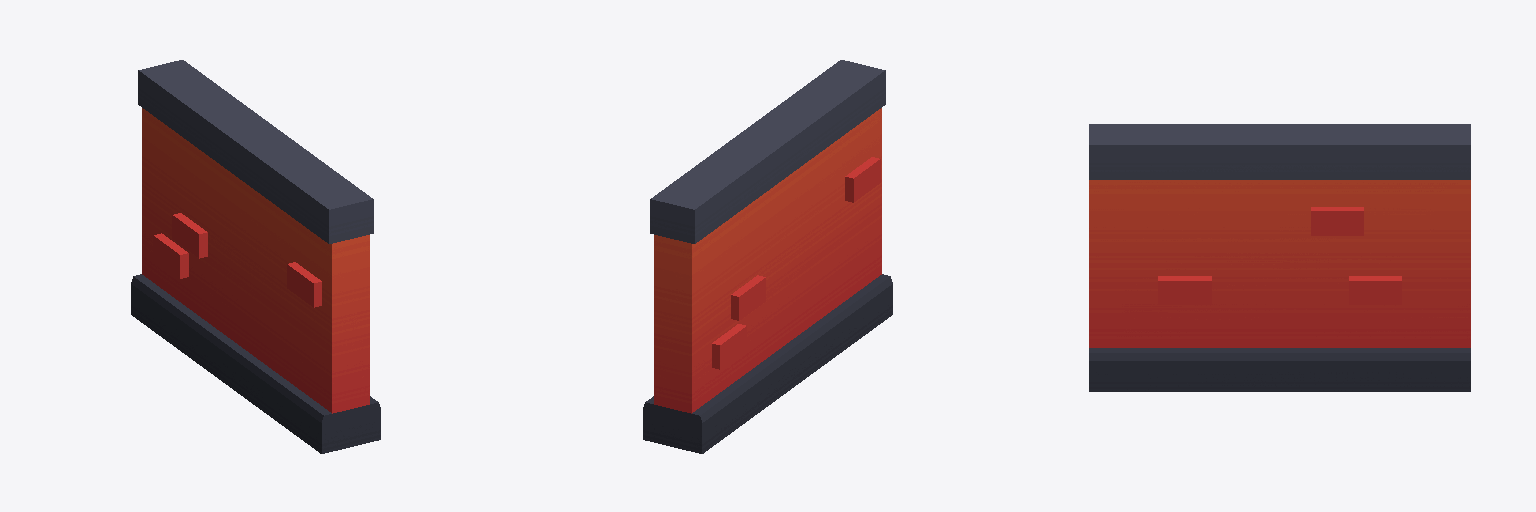
The picture shows the model from 3 angles: view 1: azimuth 30°, elevation 25°; view 2: azimuth 150°, elevation 25°; view 3: azimuth 270°, elevation 25°; orthographic projection.
Parts seen in each view (by area): view 1: brick-wall.016; view 2: brick-wall.016; view 3: brick-wall.016.
Part boxes in pixels (x1,y1,x2,y2): brick-wall.016: (131,60,380,453); brick-wall.016: (643,60,892,453); brick-wall.016: (1089,124,1470,391).
Bounding box in the file's own units: 0.441 × 1.72 × 2.45.
Materials: 1 (1 with a texture image).